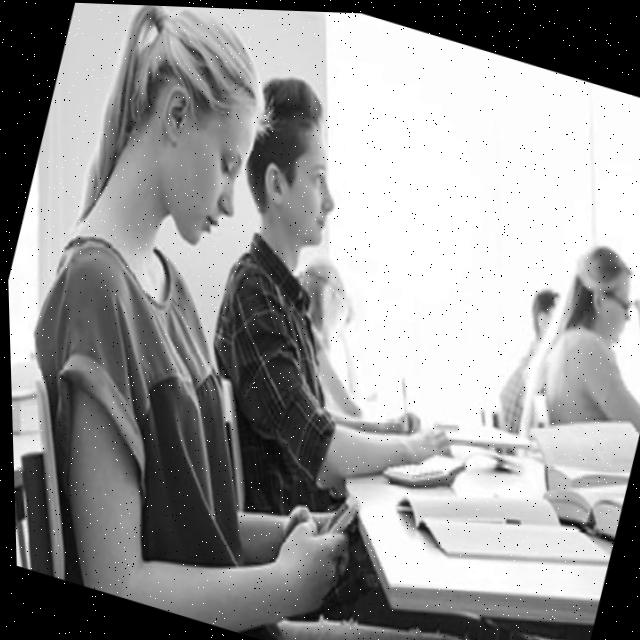phone: (301, 478, 368, 547), (628, 289, 640, 318)
